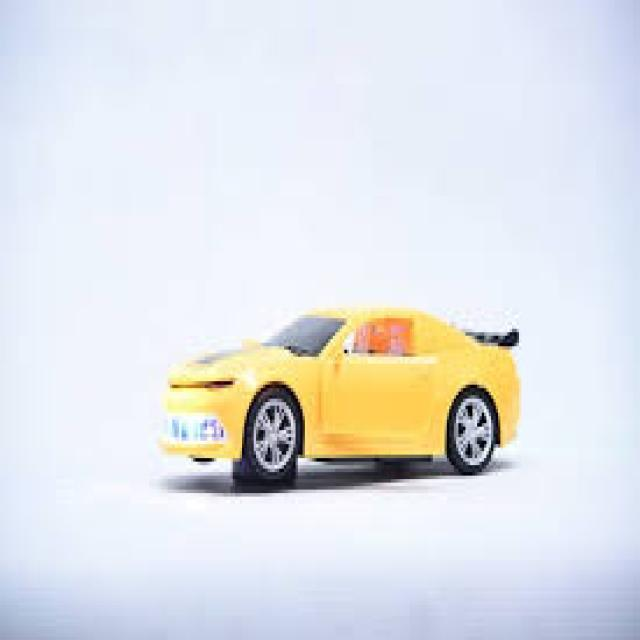Car: (156, 304, 521, 486)
